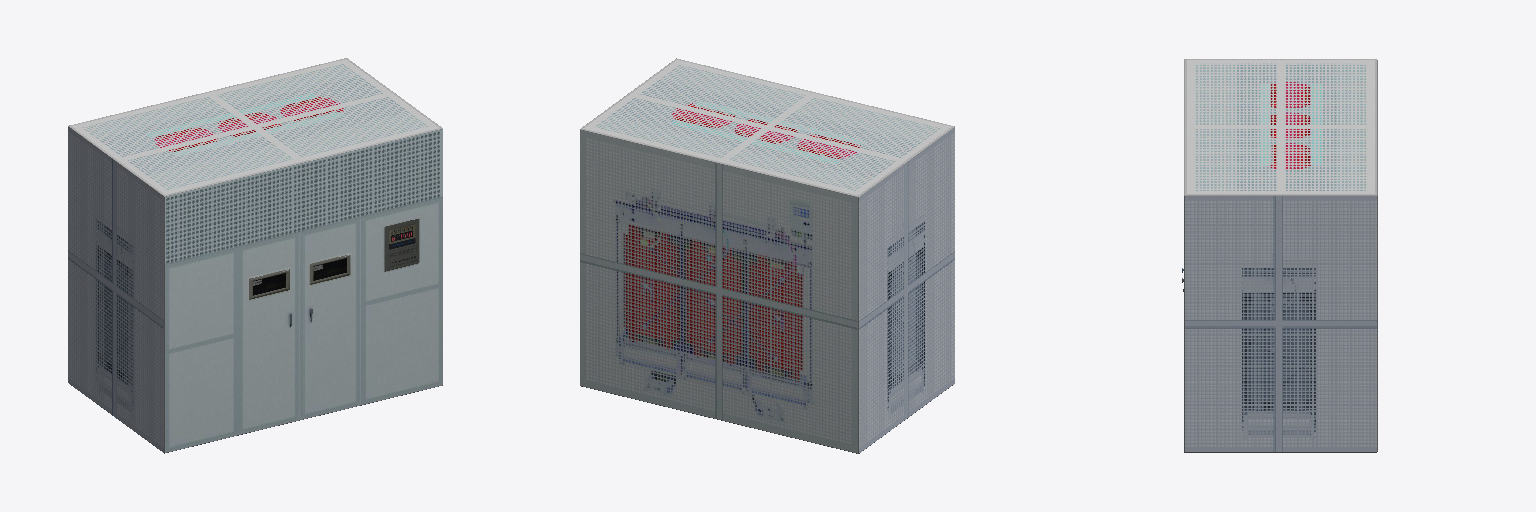
3 views of the same model, side by side, from view 1: azimuth 30°, elevation 25°; view 2: azimuth 150°, elevation 25°; view 3: azimuth 270°, elevation 25° (orthographic).
Parts seen in each view (by area): view 1: ChamferBox07, Box01, Box173; view 2: ChamferBox07, Box01; view 3: ChamferBox07, Box01.
Part boxes in pixels (x1,y1,x2,y2): ChamferBox07: (68, 58, 442, 453); Box01: (72, 59, 438, 194); Box173: (249, 218, 418, 326); ChamferBox07: (580, 58, 954, 453); Box01: (583, 60, 950, 194); ChamferBox07: (1184, 59, 1377, 452); Box01: (1187, 60, 1374, 193).
Size of the model in its own units: 250 by 220 by 151.
Materials: 4 (4 with a texture image).